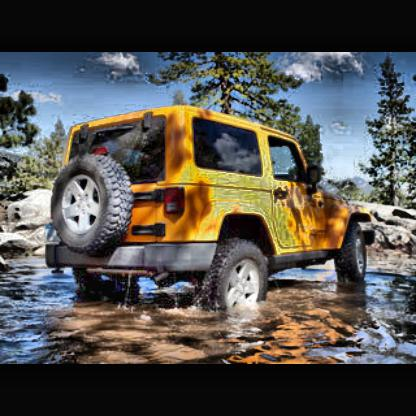Jeep Wrangler SUV 2012: (49, 107, 377, 313)
